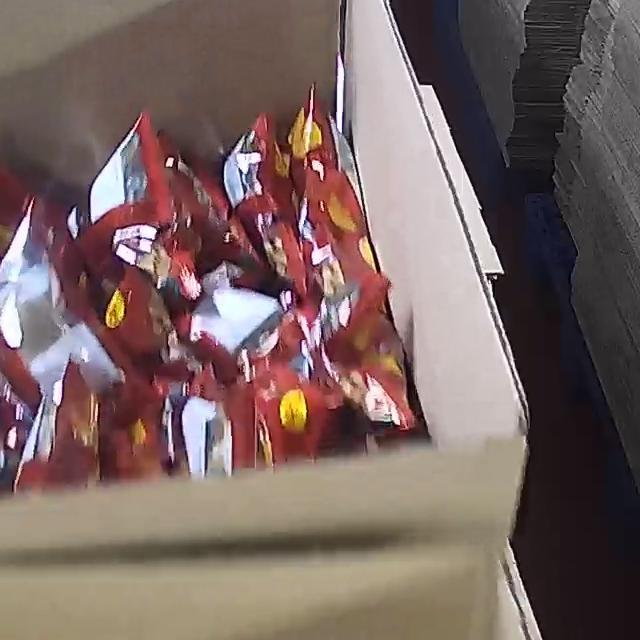masala: (0, 85, 421, 512)
